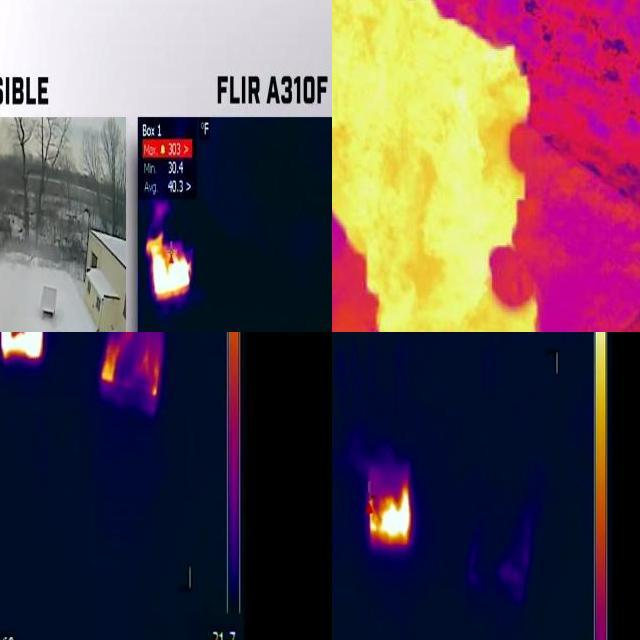fire: (333, 1, 536, 333), (146, 232, 194, 300), (367, 478, 413, 548), (1, 333, 47, 364)
